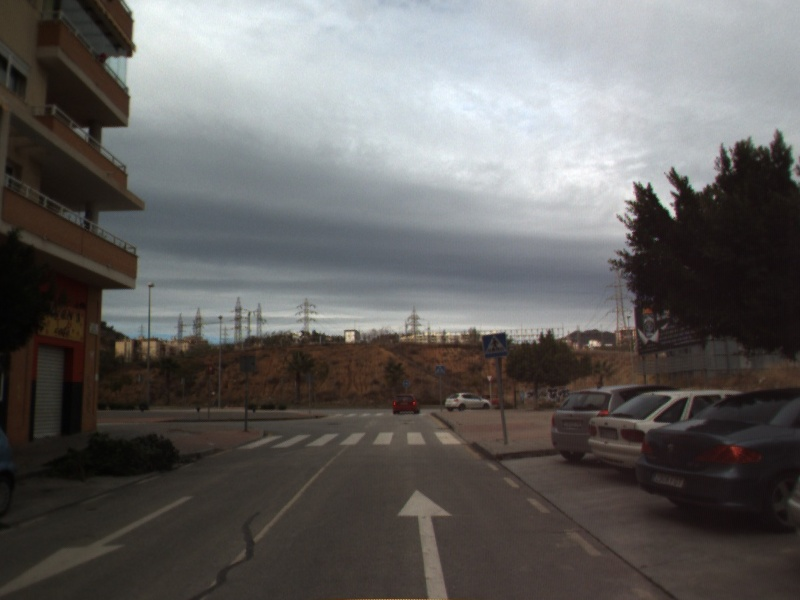STRAIGHT: (395, 487, 455, 600)
